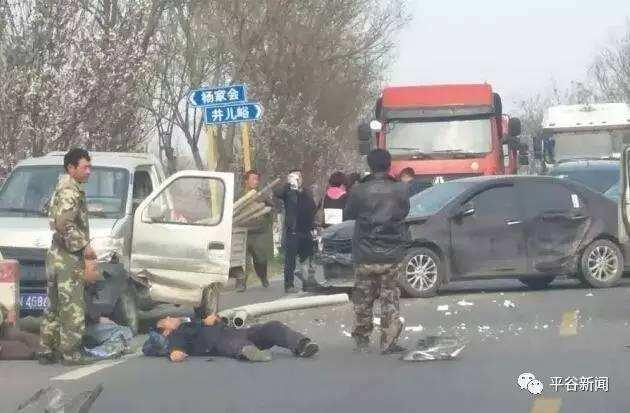Fall-Detected: (147, 308, 325, 367)
